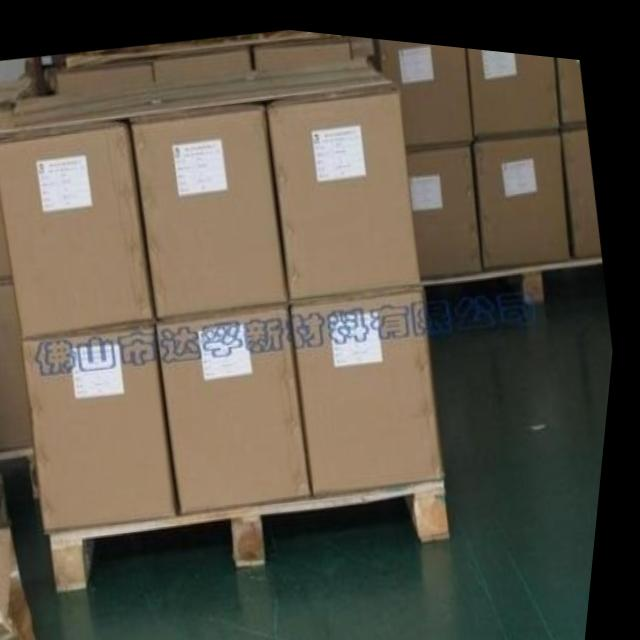box: (0, 116, 158, 337), (162, 294, 322, 510), (270, 72, 426, 293), (134, 94, 291, 313), (28, 313, 187, 528), (295, 274, 452, 488), (476, 122, 574, 254), (409, 135, 486, 271), (378, 31, 472, 140), (467, 38, 561, 123), (0, 284, 42, 452), (563, 116, 605, 244), (152, 43, 253, 83), (55, 58, 157, 94), (255, 30, 352, 67), (555, 45, 587, 114), (0, 178, 18, 278)
